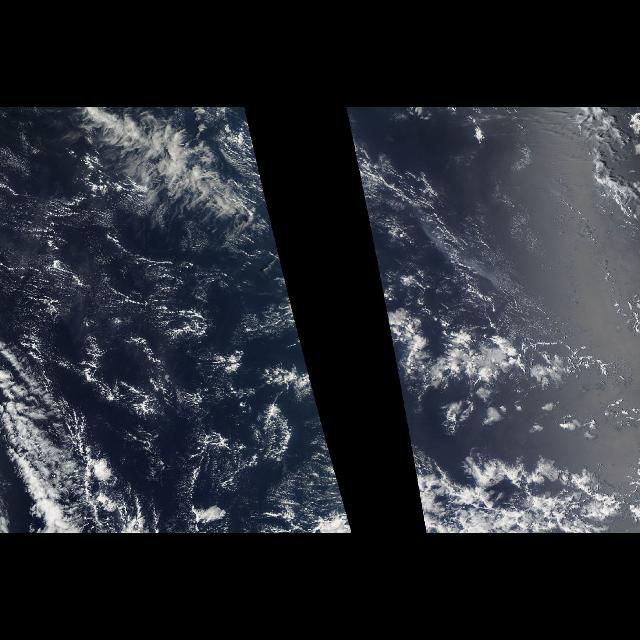Fish: (51, 110, 272, 310)
Gravel: (25, 164, 325, 512)
Sugar: (5, 210, 313, 474)
